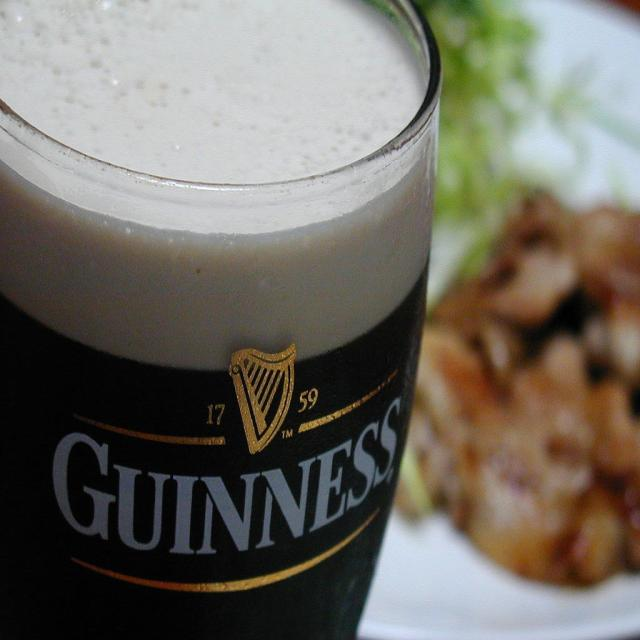guiness: (51, 340, 404, 560)
